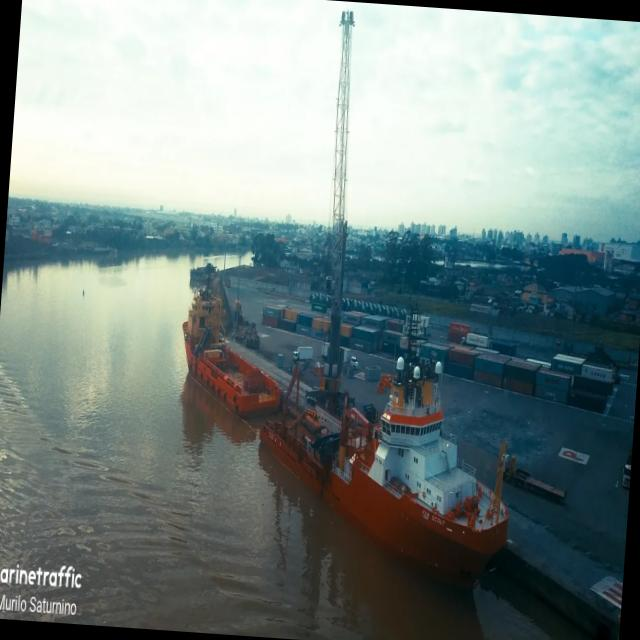Offshore: (259, 313, 508, 584), (182, 287, 281, 415)
